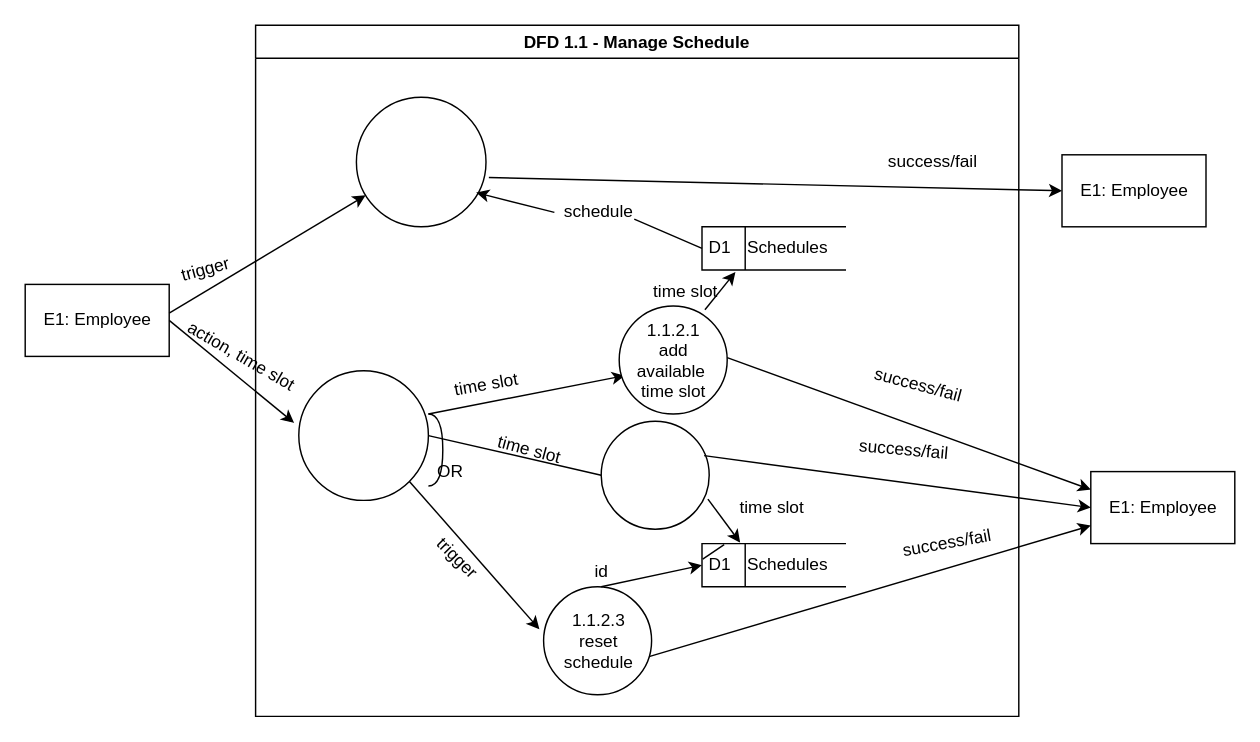
This 1260x742 diagram has some shape labels left out. Each missing label, with the centre of its shape:
"1.1.1 view availability schedule" belongs at point (420, 161).
"1.1.2 change availability schedule" belongs at point (362, 434).
"1.1.2.2 remove available time slot" belongs at point (654, 474).
